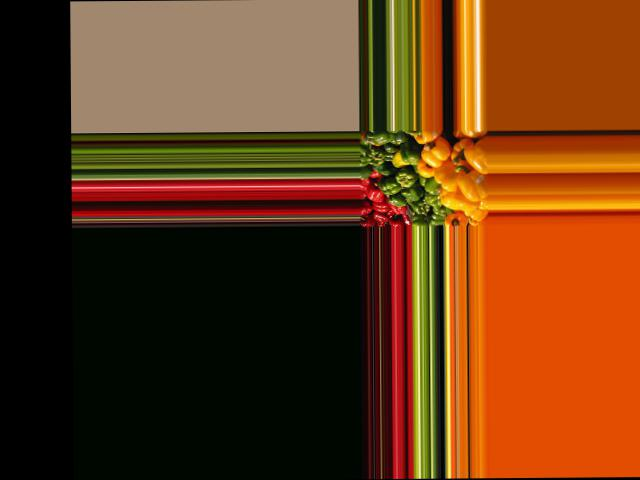bell_pepper: (359, 129, 382, 146)
